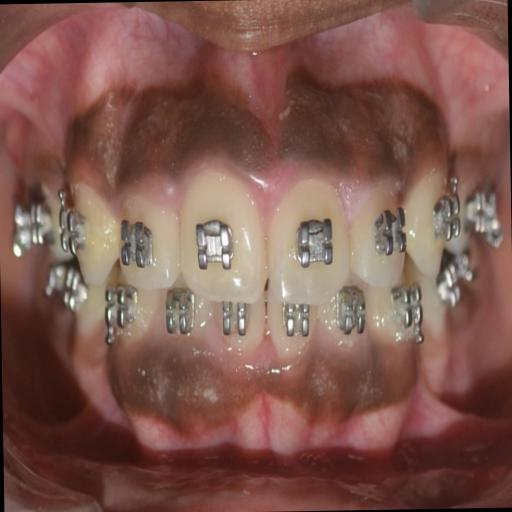correct_brace: (190, 214, 242, 282), (293, 208, 338, 274), (118, 218, 158, 274), (370, 204, 408, 258), (430, 184, 460, 240), (58, 202, 88, 256)
incorrect_brace: (111, 184, 181, 294), (350, 176, 408, 294)
